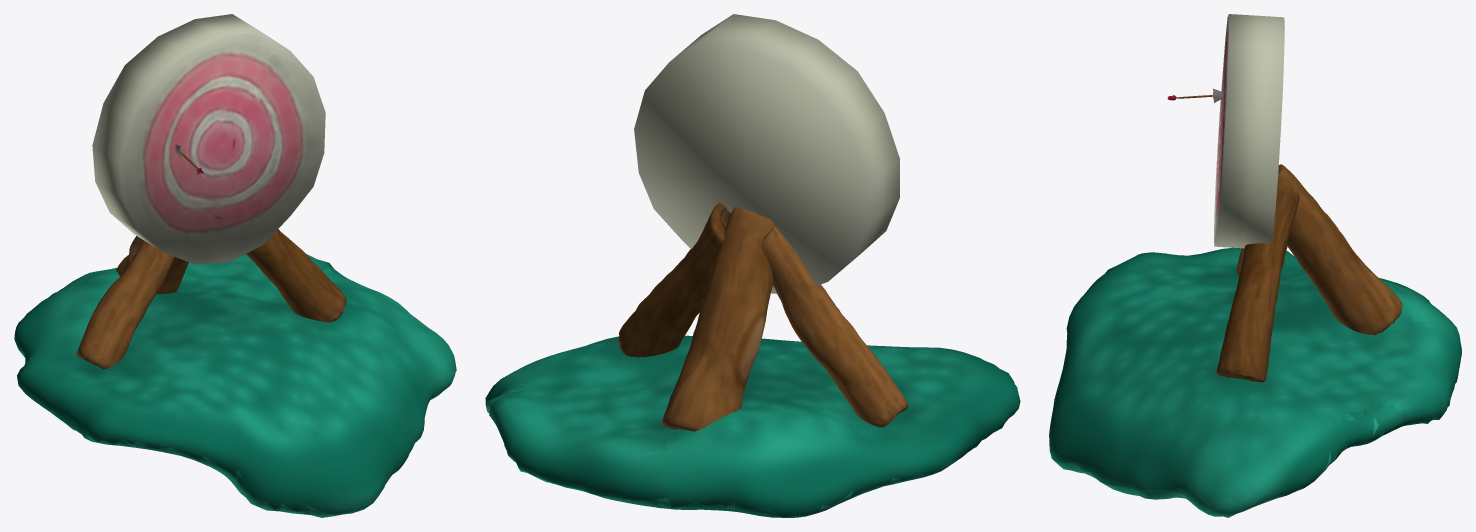
File: target_version_2.glb
3 renders of one model, left to right at view 1: azimuth 30°, elevation 25°; view 2: azimuth 150°, elevation 25°; view 3: azimuth 270°, elevation 25°, orthographic. The views are drawn at different scales.
Visible parts, largest first — view 1: ground_6, alvo_low_3, left_wood_low_2, right_wood_low_0, center_wood_low_1; view 2: ground_6, alvo_low_3, center_wood_low_1, left_wood_low_2, right_wood_low_0; view 3: ground_6, alvo_low_3, center_wood_low_1, right_wood_low_0.
Part boxes in pixels (left/top/right/bottom): ground_6: left=14, top=254, right=456, bottom=517; alvo_low_3: left=92, top=14, right=325, bottom=264; left_wood_low_2: left=76, top=239, right=174, bottom=368; right_wood_low_0: left=246, top=229, right=346, bottom=322; center_wood_low_1: left=116, top=236, right=188, bottom=293; ground_6: left=485, top=335, right=1020, bottom=517; alvo_low_3: left=634, top=14, right=899, bottom=293; center_wood_low_1: left=662, top=207, right=774, bottom=431; left_wood_low_2: left=761, top=227, right=908, bottom=427; right_wood_low_0: left=618, top=202, right=730, bottom=357; ground_6: left=1049, top=247, right=1461, bottom=517; alvo_low_3: left=1214, top=14, right=1284, bottom=248; center_wood_low_1: left=1277, top=164, right=1402, bottom=335; right_wood_low_0: left=1216, top=183, right=1299, bottom=382.
Size of the model in its own units: 7.53 by 7.5 by 6.7.
Materials: 5 (5 with a texture image).
